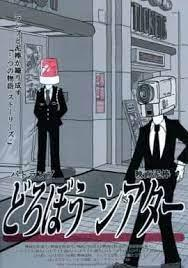no more kid: (136, 73, 180, 115)
